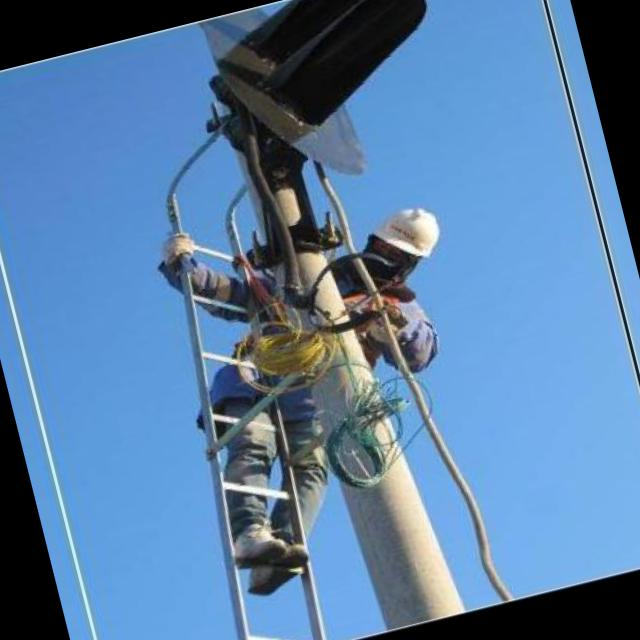helmet: (342, 194, 448, 286)
